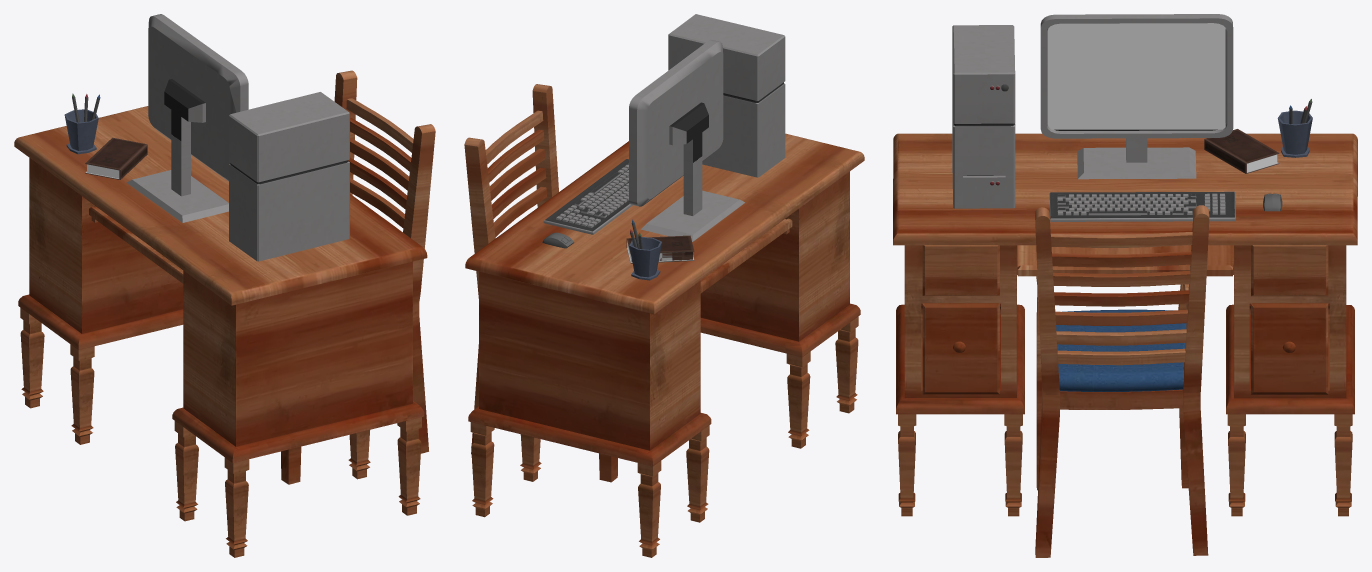
File: desk-opt.glb
3 views of the same model, side by side, from view 1: azimuth 30°, elevation 25°; view 2: azimuth 150°, elevation 25°; view 3: azimuth 270°, elevation 25° (orthographic). The views are drawn at different scales.
Parts seen in each view (by area): view 1: polySurface213_chair_wood1_0; view 2: polySurface213_chair_wood1_0; view 3: polySurface213_chair_wood1_0, monitor-screen.
Boxes of the visible parts, x1=… form: polySurface213_chair_wood1_0: x1=14, y1=14, x2=435, y2=557; polySurface213_chair_wood1_0: x1=464, y1=14, x2=864, y2=557; polySurface213_chair_wood1_0: x1=893, y1=14, x2=1357, y2=557; monitor-screen: x1=1047, y1=23, x2=1225, y2=129.
Size of the model in its own units: 19.12 by 28.18 by 26.61.
10 materials, 9 textured.
